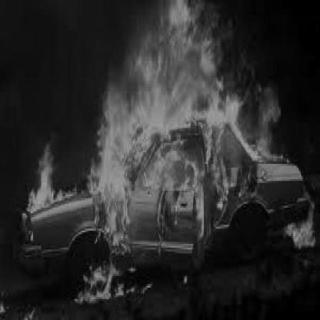Fire: (24, 308, 34, 316)
